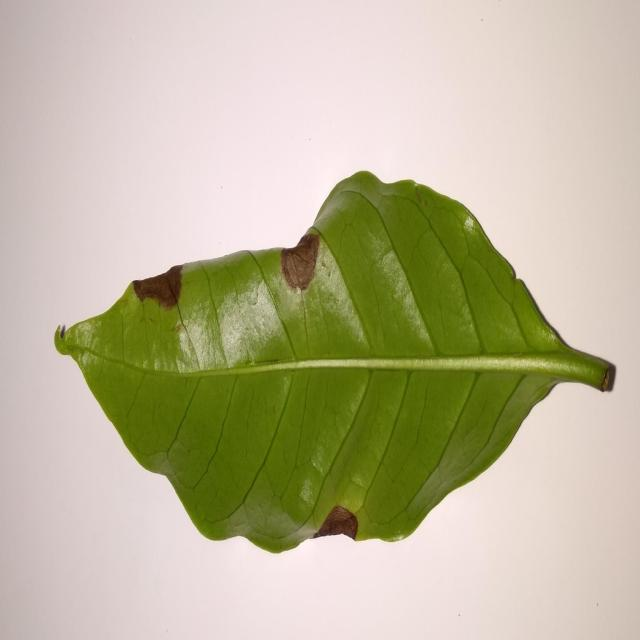Enfermedad-Antracnosis: (53, 172, 618, 557)
